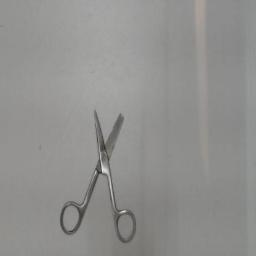Dressing Scissors: (56, 98, 140, 246)
